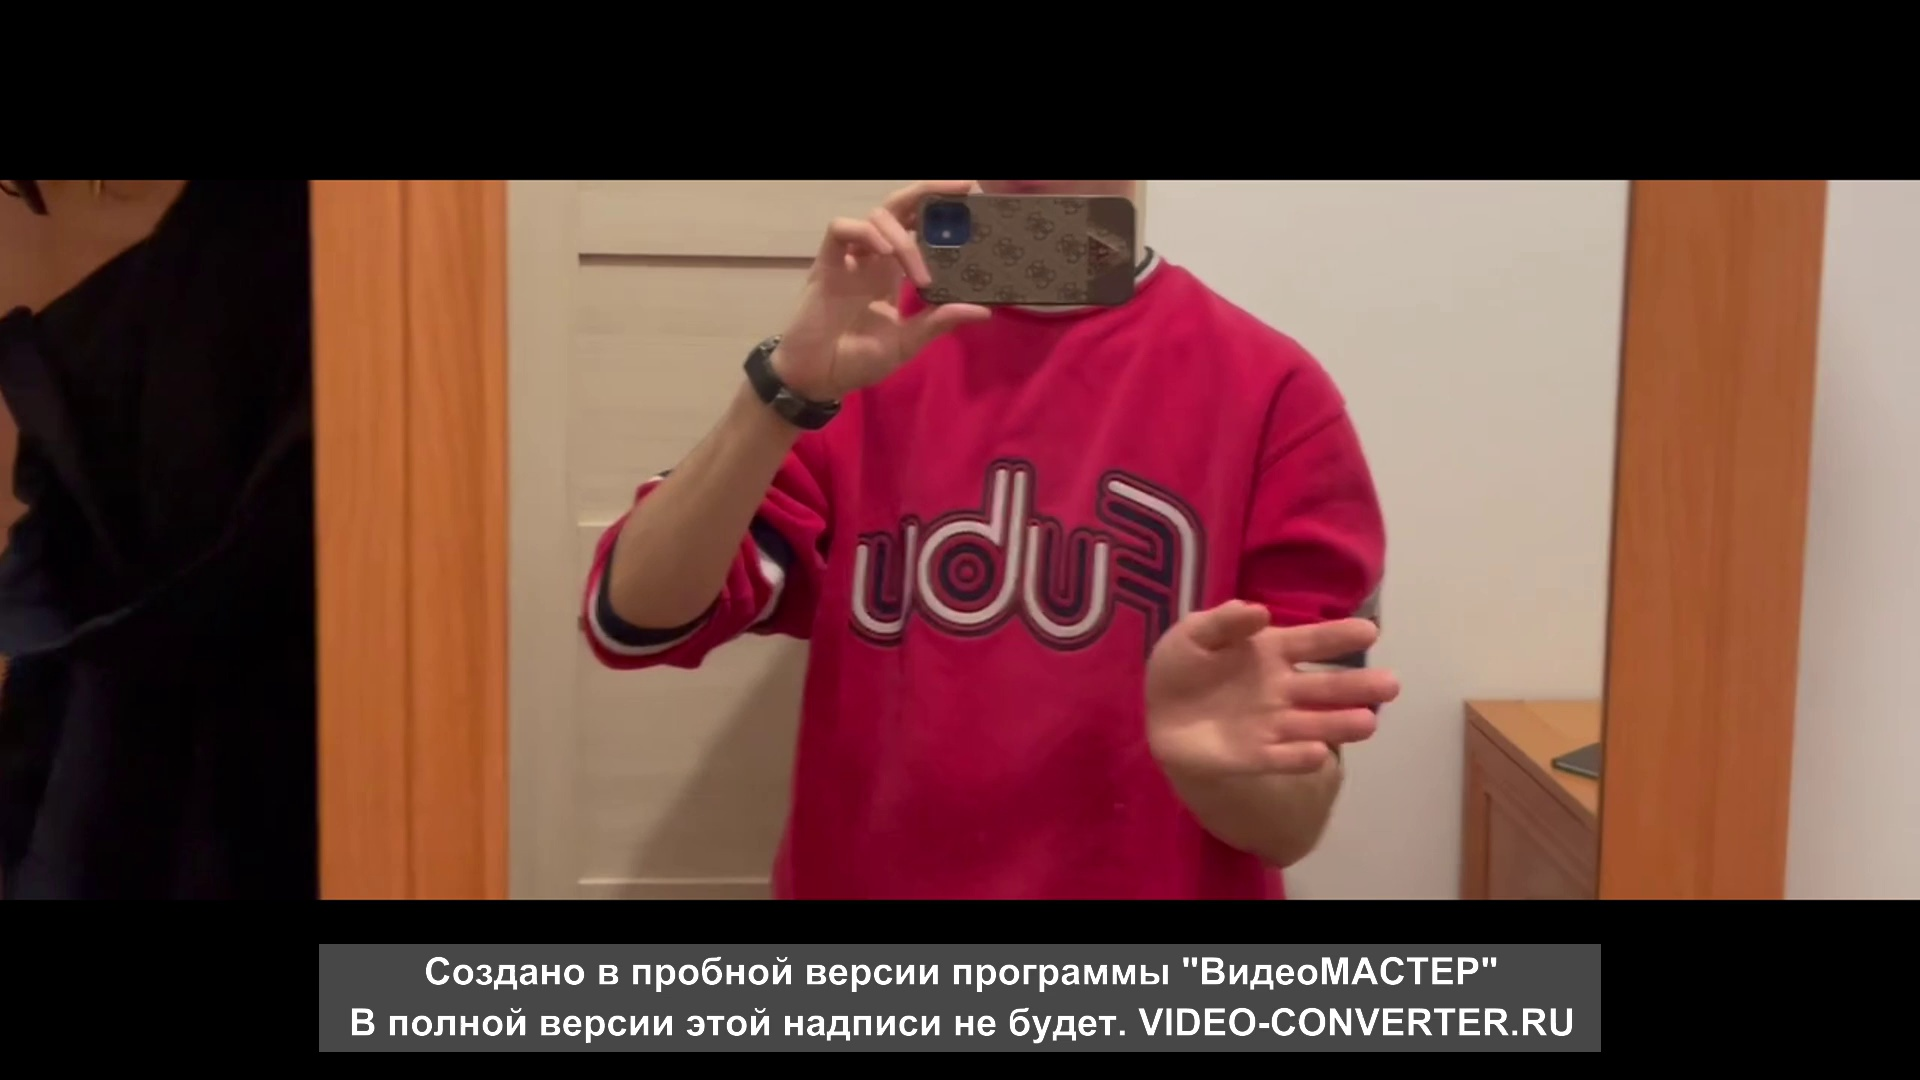Ладонь: (1146, 599, 1403, 775)
